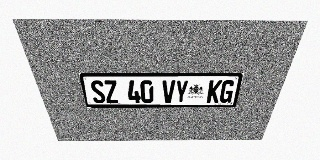0: (140, 80, 153, 103)
4: (126, 80, 141, 103)
G: (219, 80, 236, 103)
K: (206, 80, 223, 103)
S: (89, 80, 106, 103)
V: (162, 80, 175, 103)
Y: (175, 80, 189, 103)
Z: (103, 80, 119, 103)
